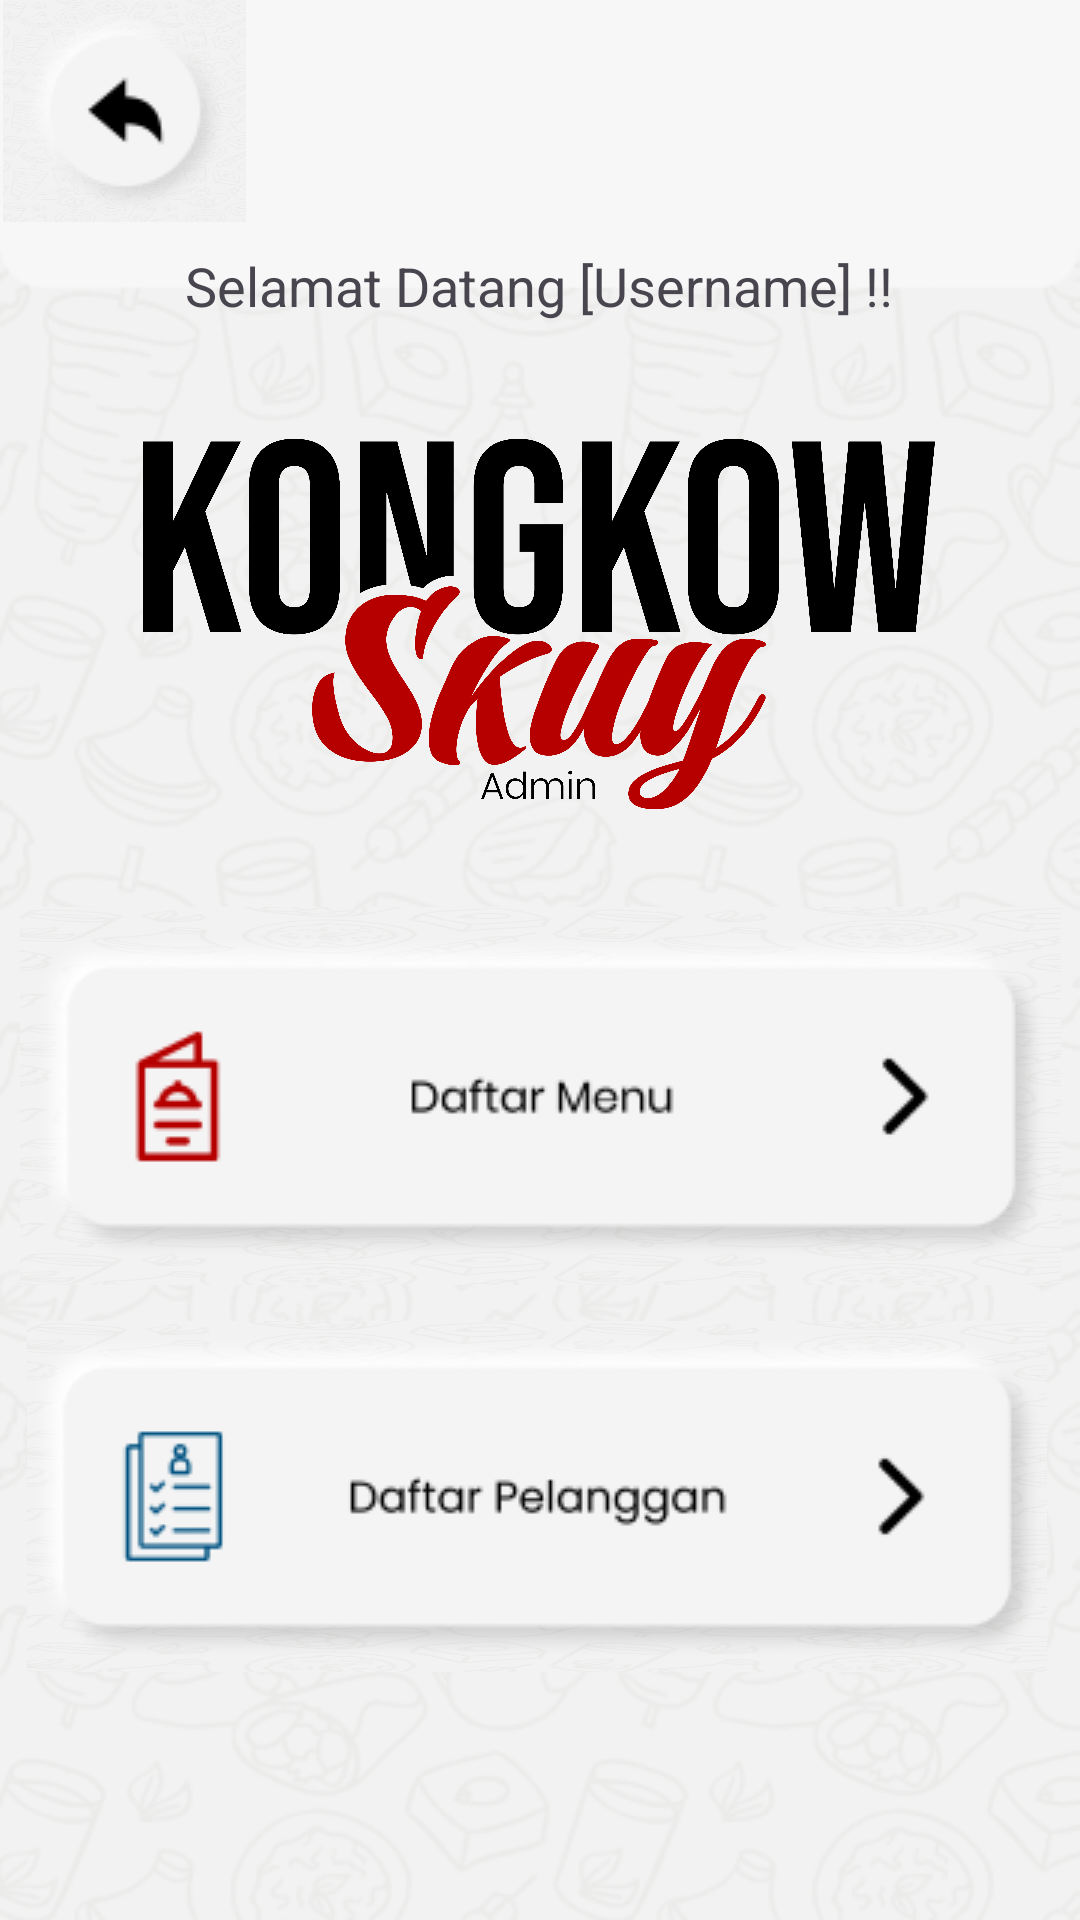

Icon click points for this 1080 × 1920 phone screenshot, format (x,y):
buttonkembali: (146,134)
